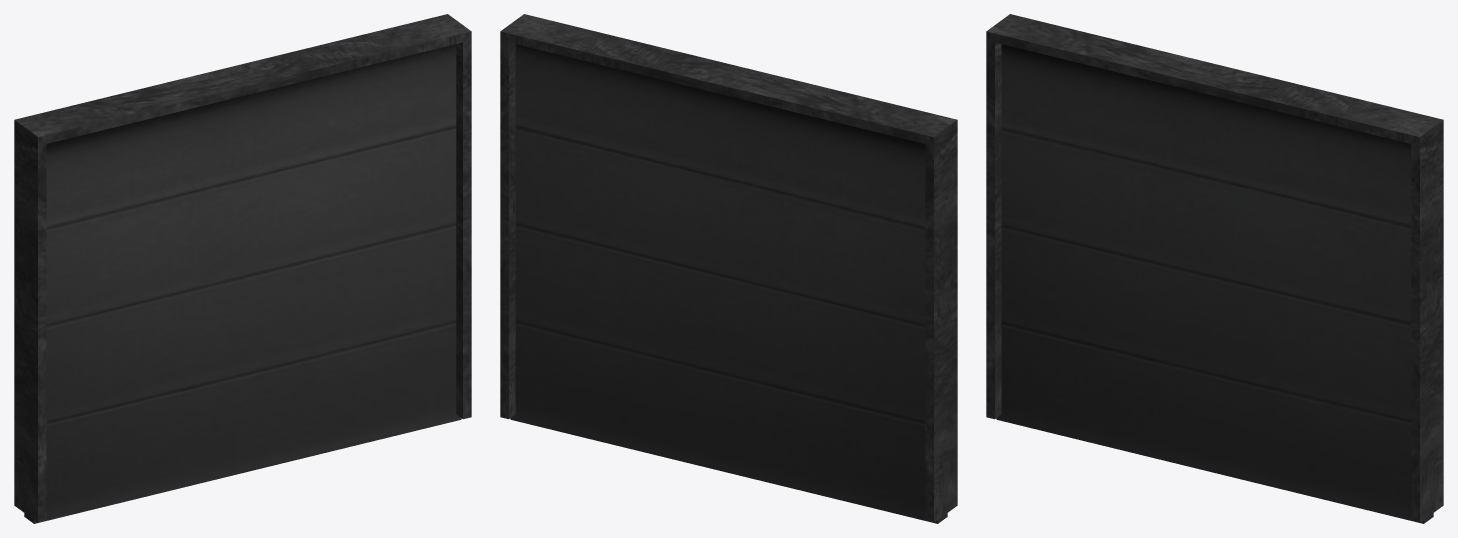
The model's file is Garage_Door.glb.
3 views of the same model, side by side, from view 1: azimuth 30°, elevation 25°; view 2: azimuth 150°, elevation 25°; view 3: azimuth 330°, elevation 25° (orthographic).
Visible parts, largest first — view 1: Garage_Door, Door_frame_012; view 2: Garage_Door, Door_frame_012; view 3: Garage_Door, Door_frame_012.
Boxes of the visible parts, x1,y1,x2,y2 form: Garage_Door: (24,44,461,523); Door_frame_012: (14,14,471,522); Garage_Door: (510,44,947,523); Door_frame_012: (500,14,957,522); Garage_Door: (996,44,1433,523); Door_frame_012: (986,14,1443,522).
Bounding box in the file's own units: 3.55 × 3.08 × 0.338.
2 materials, 2 textured.
